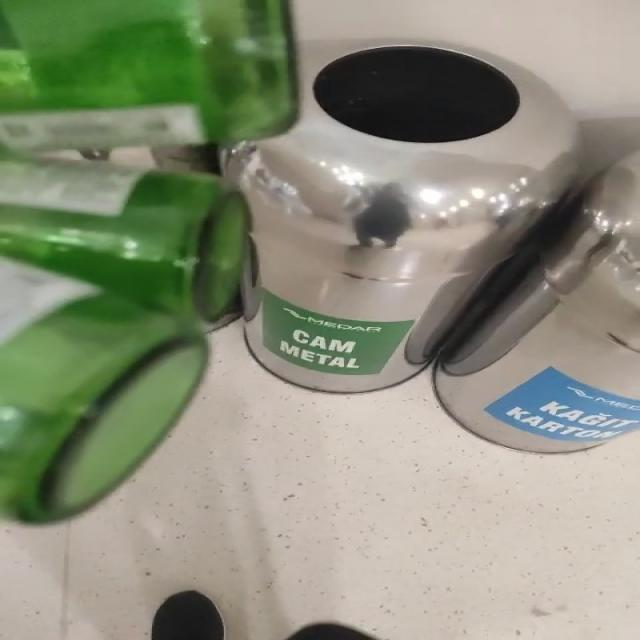glass: (0, 0, 297, 524)
